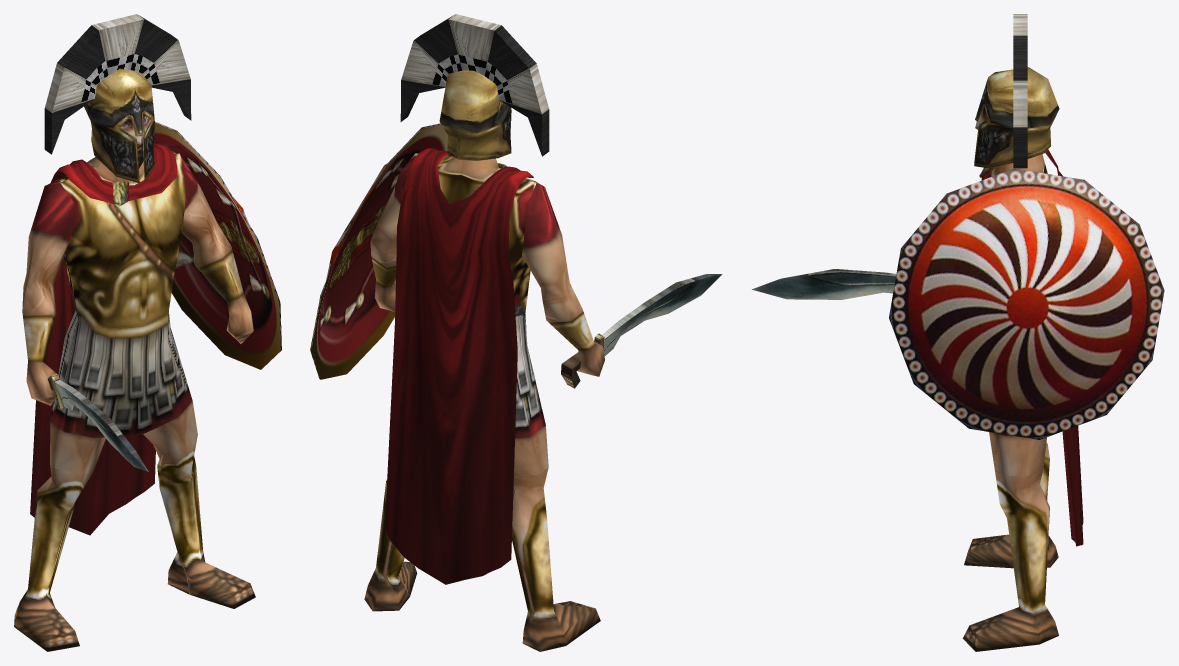
The model's file is spart_leonidas.dae.
The picture shows the model from 3 angles, left to right: view 1: azimuth 30°, elevation 25°; view 2: azimuth 150°, elevation 25°; view 3: azimuth 270°, elevation 25°; orthographic projection. The views are drawn at different scales.
Visible parts, largest first — view 1: default; view 2: default; view 3: default.
Boxes of the visible parts, box(x1,y1,x2,y2) form: default: box(14, 14, 281, 651); default: box(310, 14, 722, 651); default: box(752, 14, 1164, 651).
Size of the model in its own units: 8.75 by 20.97 by 13.72.
